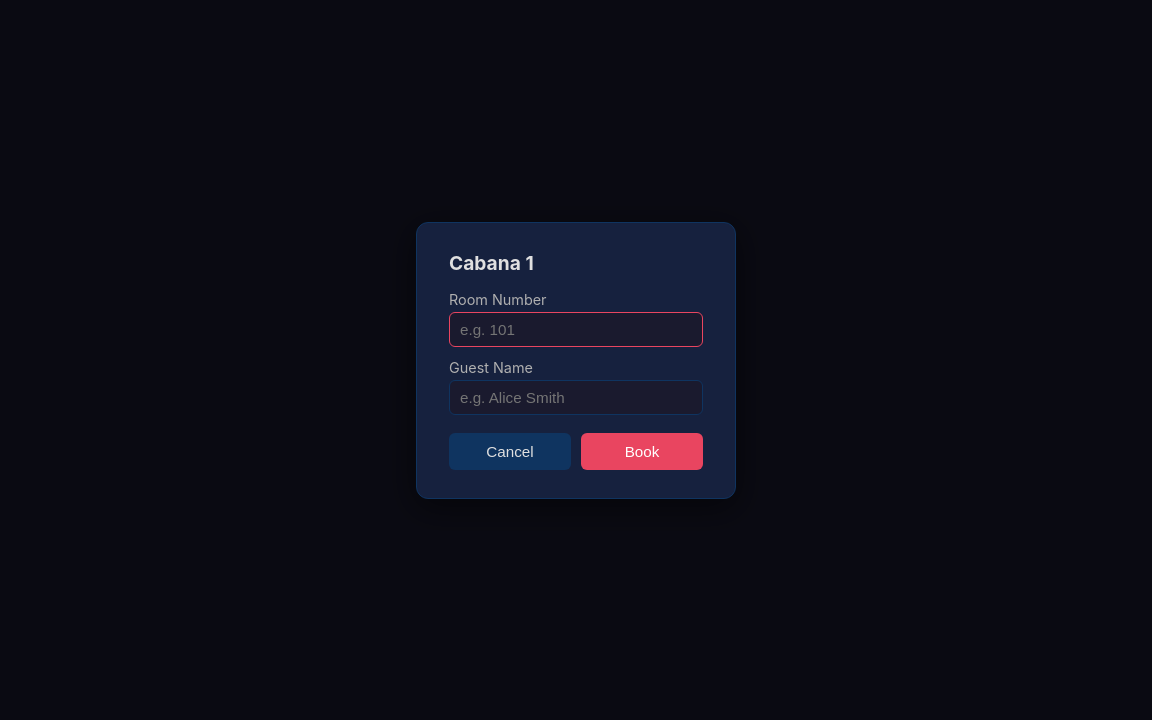
Test: BookingModal › should show error when submitting empty fields
This screenshot has width=1152, height=720.
Click the button "Book" at (642, 451), box left=581, top=432, right=703, bottom=470
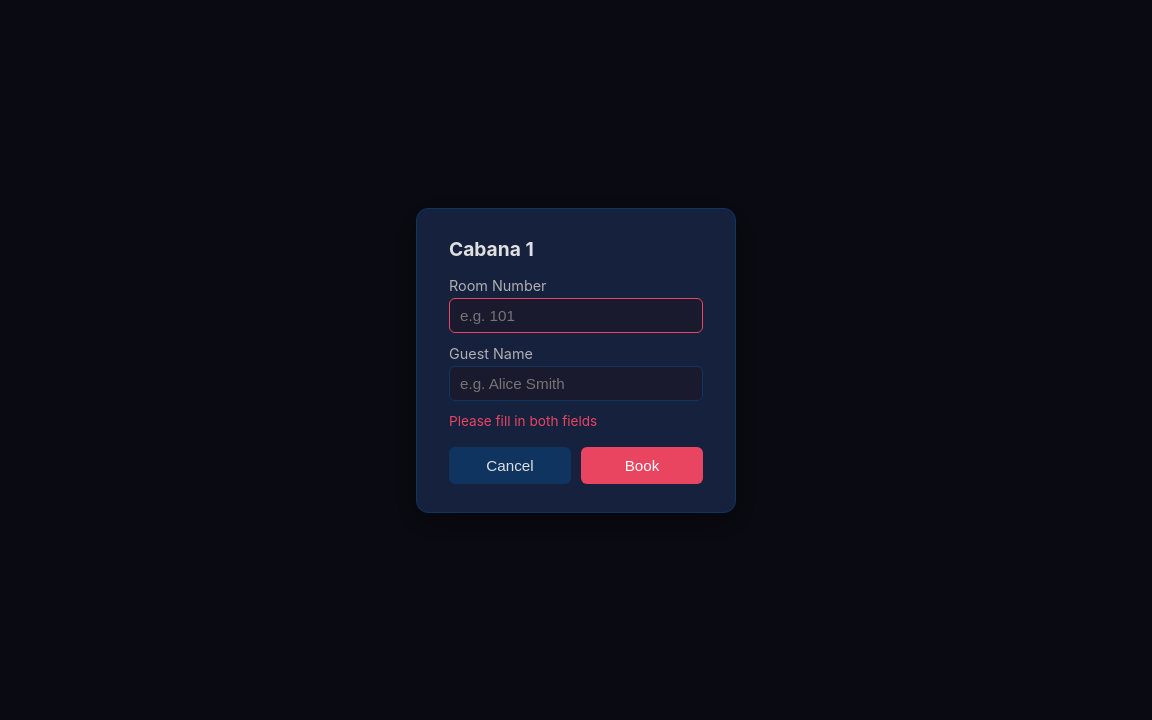
Check: the text "Please fill in both fields" is shown, box left=449, top=412, right=597, bottom=428
